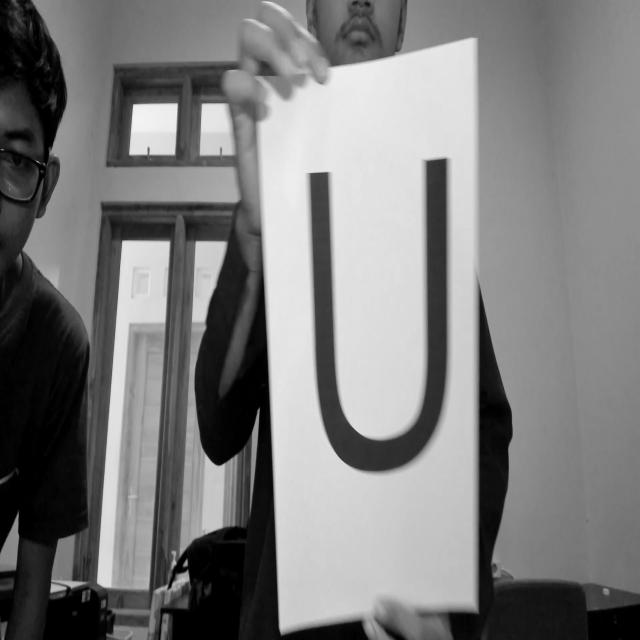u: (299, 128, 469, 516)
